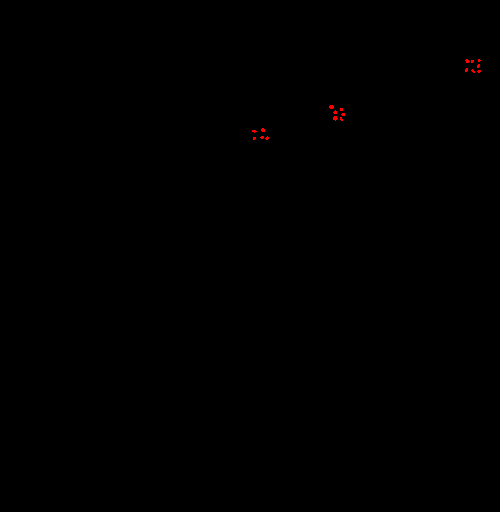Target: (333, 116, 338, 121), (465, 59, 470, 63), (329, 105, 334, 109), (471, 69, 475, 73), (333, 110, 337, 114), (261, 128, 265, 132), (265, 136, 269, 140), (252, 130, 257, 133), (477, 64, 480, 68), (465, 68, 468, 72), (477, 70, 481, 73), (341, 113, 345, 116), (340, 117, 343, 121), (260, 136, 264, 139), (478, 59, 481, 62), (471, 60, 474, 63), (340, 108, 343, 111), (253, 137, 256, 140)
